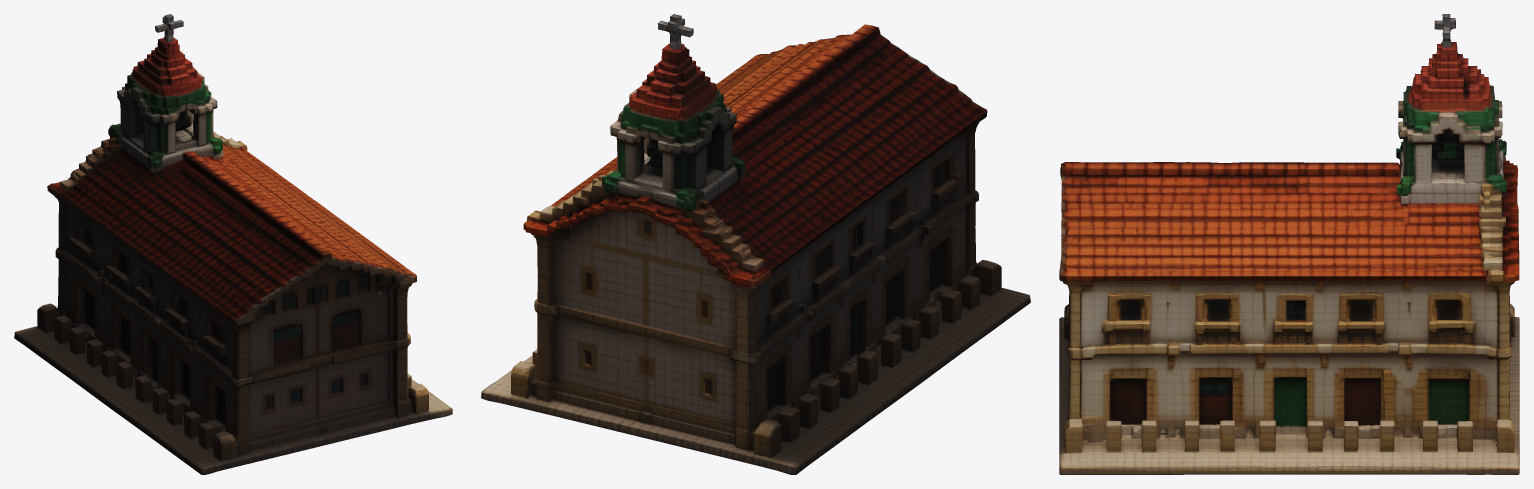
File: capilla.glb
The picture shows the model from 3 angles, left to right: view 1: azimuth 30°, elevation 25°; view 2: azimuth 150°, elevation 25°; view 3: azimuth 270°, elevation 25°; orthographic projection. The views are drawn at different scales.
Parts seen in each view (by area): view 1: world; view 2: world; view 3: world.
Part boxes in pixels (x1,y1,x2,y2): world: [14, 14, 452, 474]; world: [481, 14, 1030, 474]; world: [1059, 14, 1519, 474].
Size of the model in its own units: 0.7745 by 0.9251 by 1.
Materials: 1 (1 with a texture image).
